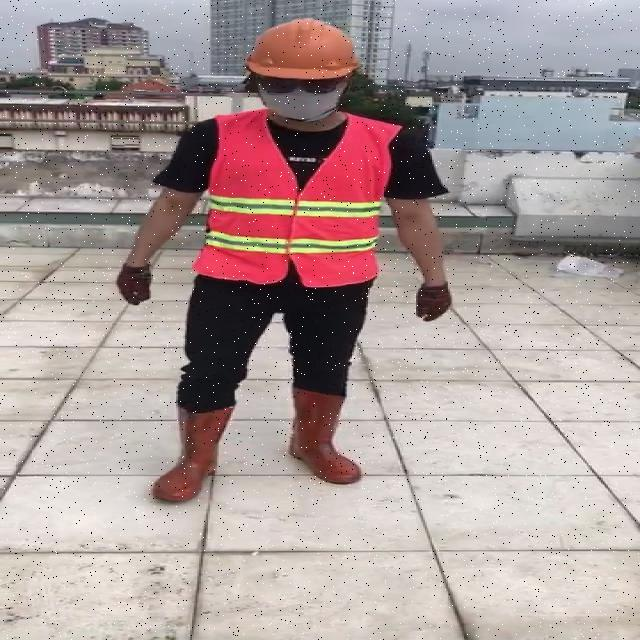Hard_hat: (238, 12, 364, 83)
Person: (114, 15, 470, 545)
Vest: (200, 114, 388, 291)
